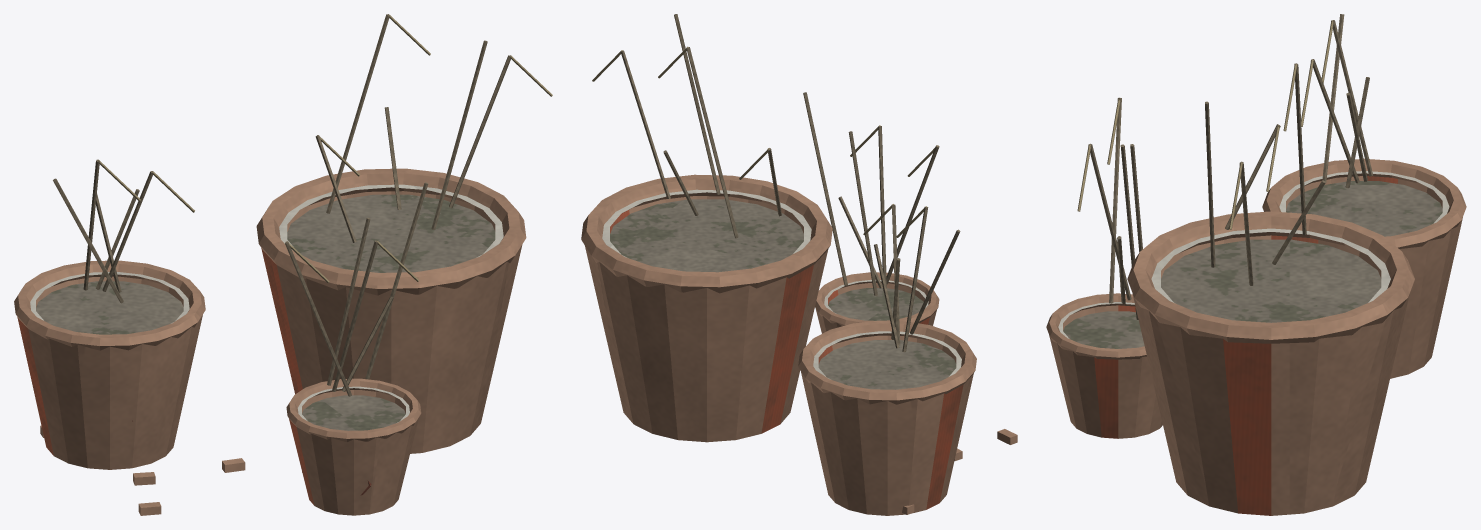
The model's file is cracked_plant_pots.glb.
3 renders of one model, left to right at view 1: azimuth 30°, elevation 25°; view 2: azimuth 150°, elevation 25°; view 3: azimuth 270°, elevation 25°, orthographic. The views are drawn at different scales.
Visible parts, largest first — view 1: AshfallDecorativeProp; view 2: AshfallDecorativeProp; view 3: AshfallDecorativeProp.
Part boxes in pixels (bbox=[...]): AshfallDecorativeProp: bbox=[14, 14, 552, 515]; AshfallDecorativeProp: bbox=[581, 14, 1017, 515]; AshfallDecorativeProp: bbox=[1046, 14, 1466, 515].
Size of the model in its own units: 1.52 by 1.23 by 1.13.
7 materials, 7 textured.
